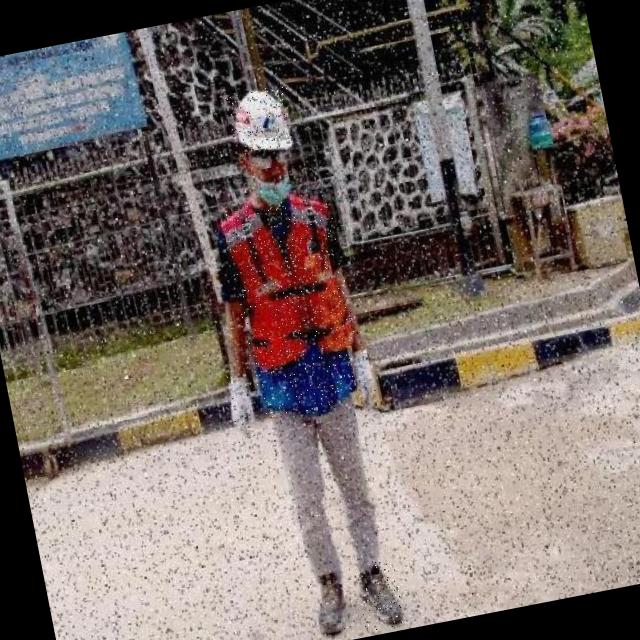hard_hat: (226, 85, 298, 156)
safety_vest: (221, 190, 369, 422)
work_boots: (353, 558, 407, 632), (308, 569, 354, 640)
